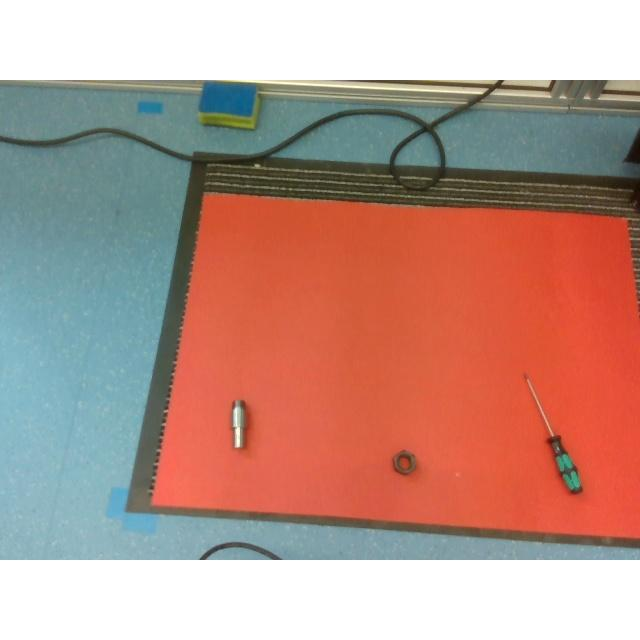Axis2: (231, 399, 245, 447)
M20: (392, 450, 416, 474)
Screwdriver: (522, 370, 582, 490)
